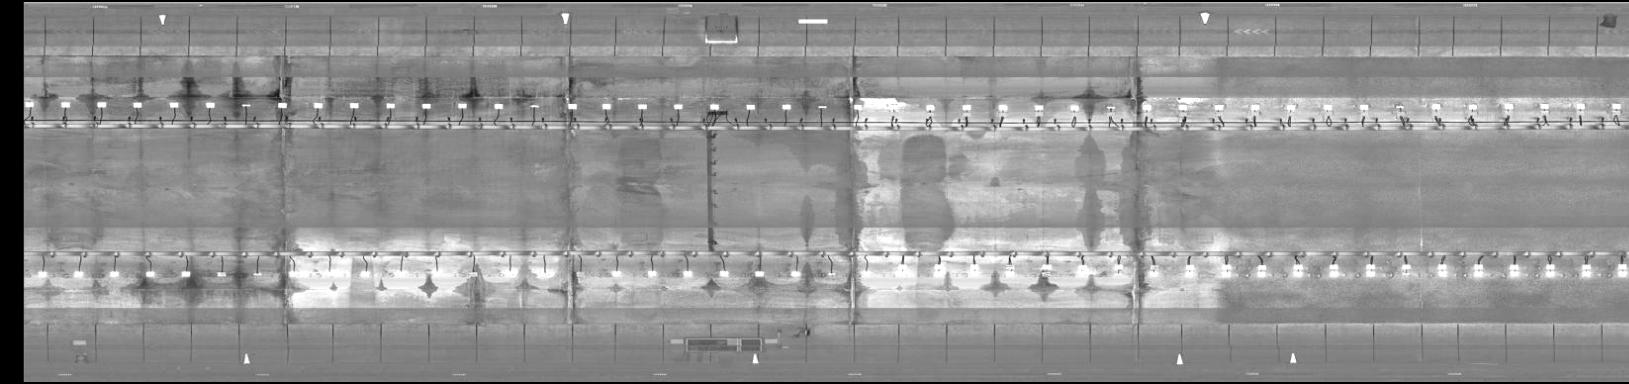light: (1321, 260, 1343, 282), (1358, 262, 1381, 281), (1105, 262, 1133, 277), (1398, 260, 1421, 279), (1287, 260, 1306, 280), (31, 267, 53, 283), (569, 267, 591, 283), (1432, 262, 1453, 278), (1031, 99, 1050, 116), (1217, 263, 1236, 280), (210, 268, 232, 283), (883, 99, 905, 114), (1177, 263, 1199, 278), (1315, 98, 1337, 113), (105, 266, 124, 283), (1003, 262, 1021, 279), (1253, 264, 1272, 281), (416, 99, 436, 114), (1134, 99, 1155, 114), (1468, 262, 1489, 277), (499, 267, 520, 281), (1071, 263, 1093, 277), (1145, 265, 1164, 281), (1386, 99, 1409, 112), (677, 268, 697, 283), (894, 264, 914, 279), (140, 267, 161, 281), (1209, 101, 1230, 115), (1575, 264, 1596, 278), (463, 268, 485, 281), (1039, 262, 1057, 278), (1504, 263, 1523, 278), (1533, 100, 1556, 112), (1540, 262, 1563, 274), (177, 270, 197, 283), (1497, 101, 1518, 114), (1605, 99, 1626, 112), (358, 266, 376, 281), (967, 260, 983, 278), (1067, 99, 1085, 114), (1175, 100, 1191, 117), (1356, 99, 1373, 114), (309, 99, 328, 112), (536, 268, 556, 281), (786, 268, 806, 281), (742, 99, 762, 112), (957, 101, 977, 114), (1246, 99, 1265, 112), (250, 266, 267, 281), (347, 98, 364, 113), (714, 269, 735, 281), (166, 98, 184, 112), (609, 267, 626, 281), (642, 267, 660, 281), (922, 100, 939, 114), (561, 99, 580, 112), (1282, 101, 1301, 114), (1613, 263, 1629, 278), (70, 267, 86, 281), (930, 262, 946, 276), (996, 102, 1013, 116), (236, 99, 255, 111), (1464, 101, 1483, 113), (490, 100, 510, 111), (1427, 99, 1444, 112), (390, 267, 410, 277), (668, 99, 687, 110), (94, 99, 109, 112), (275, 98, 291, 111), (598, 99, 614, 112), (751, 269, 767, 282), (1573, 99, 1588, 112), (428, 265, 445, 277), (201, 99, 218, 110), (285, 268, 302, 279), (453, 100, 471, 111), (1103, 101, 1118, 114), (382, 100, 398, 112), (57, 99, 74, 110), (320, 267, 337, 278), (634, 100, 650, 111), (776, 102, 794, 112), (129, 99, 144, 110), (824, 270, 840, 280), (859, 269, 876, 279), (851, 102, 867, 112), (24, 99, 39, 109), (705, 101, 722, 110), (814, 102, 829, 112), (527, 101, 542, 110)
